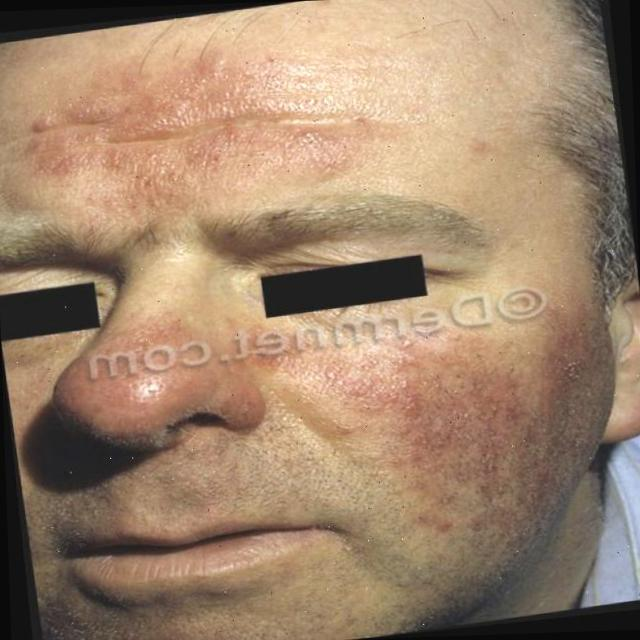skinredness: (346, 281, 638, 578), (0, 35, 395, 218)
